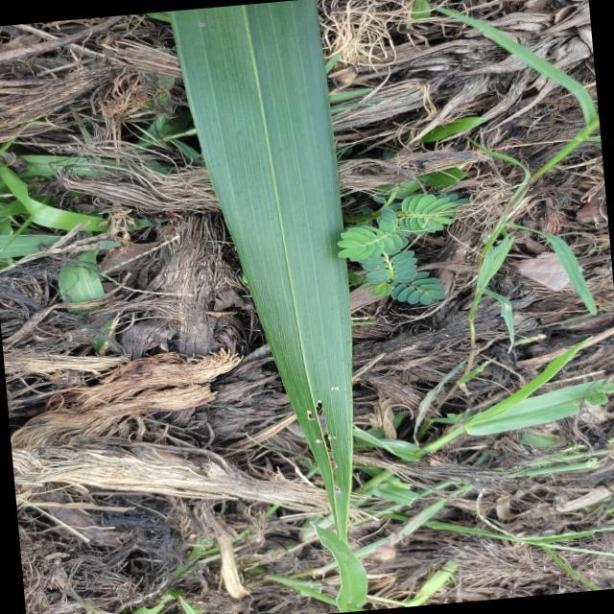Boron: (170, 0, 369, 614)
